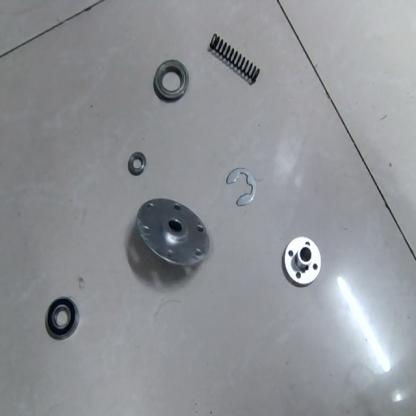FOD: (134, 194, 217, 275), (208, 26, 266, 84), (282, 236, 322, 289), (45, 293, 82, 343), (223, 164, 260, 210), (153, 59, 188, 103), (126, 148, 148, 175)
